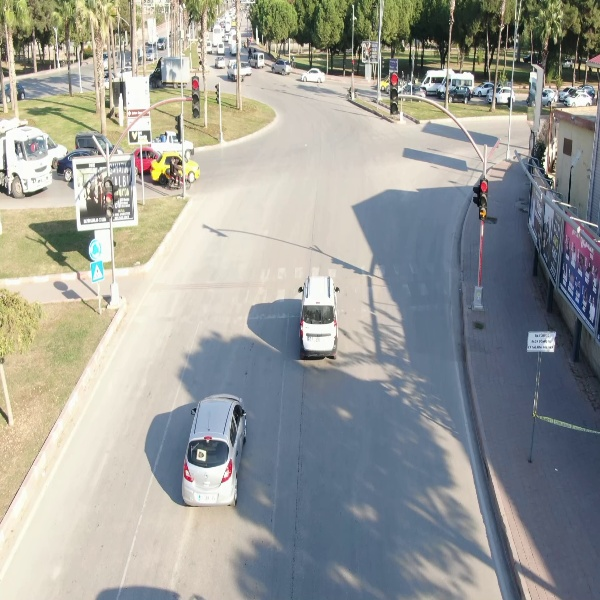car: (179, 392, 251, 506), (297, 272, 341, 366), (487, 86, 519, 106), (447, 84, 473, 104), (270, 58, 295, 77), (301, 67, 327, 84), (248, 49, 267, 69), (213, 55, 228, 70)
